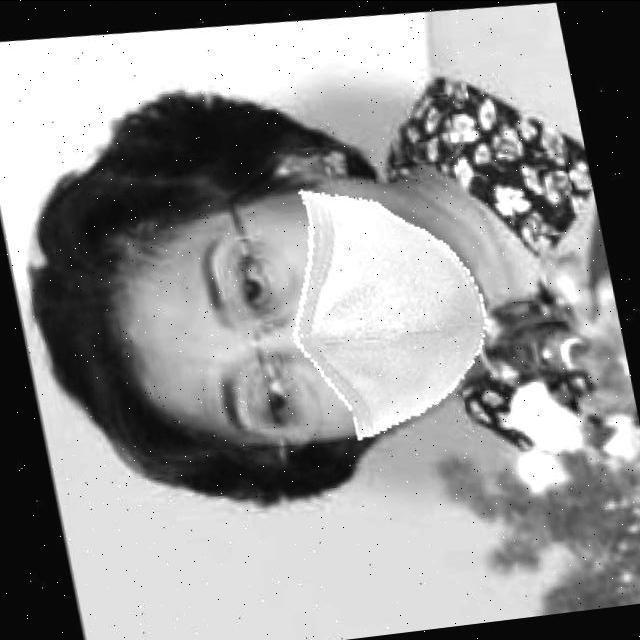no_gloves: (32, 147, 280, 501)
